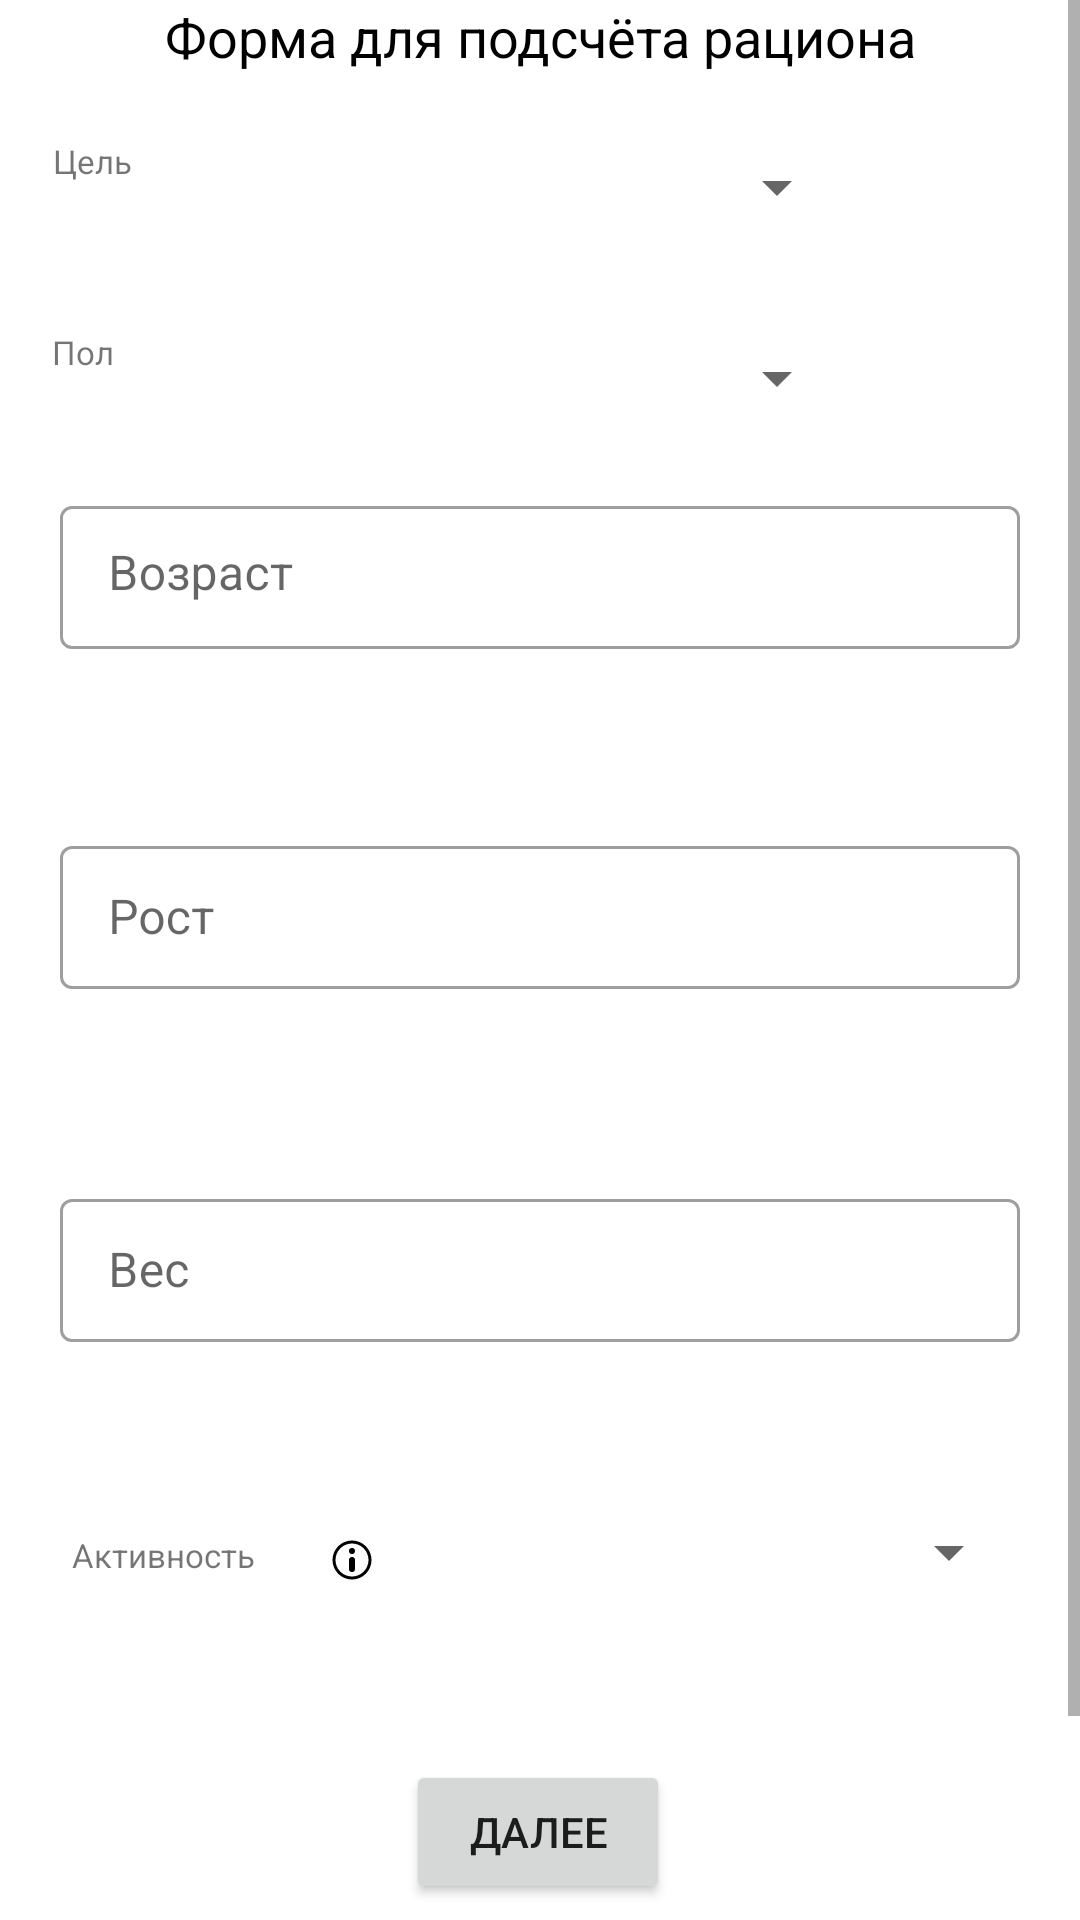

Where to tap for icons on this 1080*1920 app screen, as [x,y]:
information: [352,1560]
